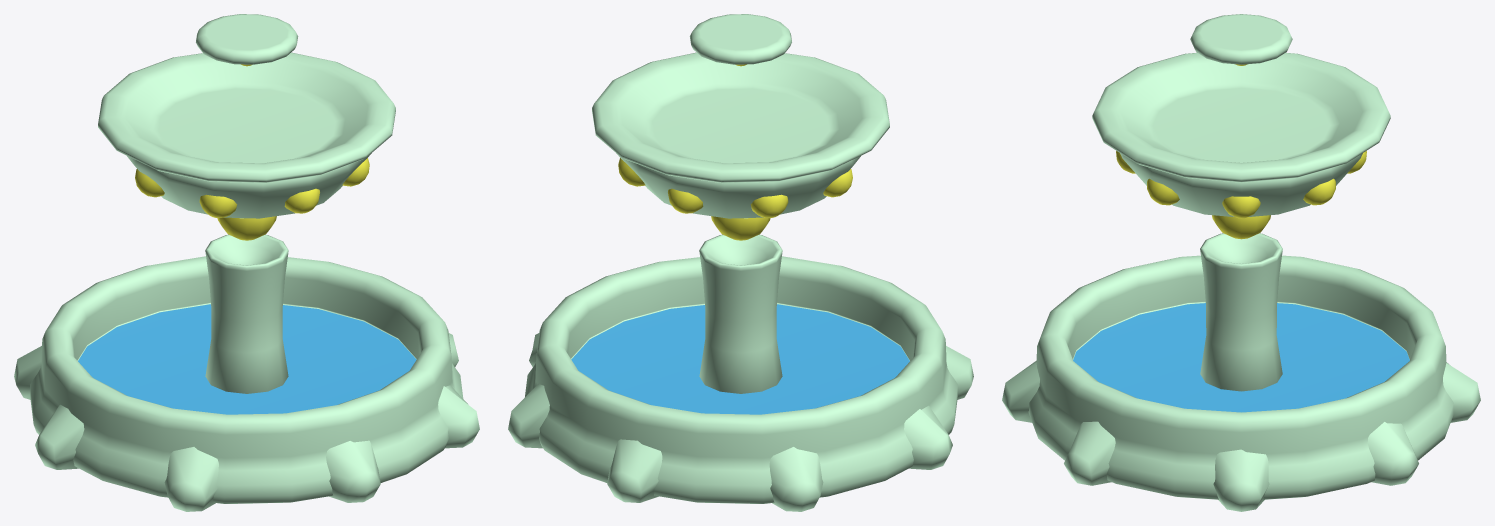
Rendered from Fountain.fbx.
3 renders of one model, left to right at view 1: azimuth 30°, elevation 25°; view 2: azimuth 150°, elevation 25°; view 3: azimuth 270°, elevation 25°, orthographic.
Visible parts, largest first — view 1: pSphere11; view 2: pSphere11; view 3: pSphere11.
Boxes of the visible parts, x1,y1,x2,y2 form: pSphere11: (14, 14, 479, 511); pSphere11: (508, 14, 973, 511); pSphere11: (1002, 14, 1480, 511).
Size of the model in its own units: 356 by 313 by 356.
